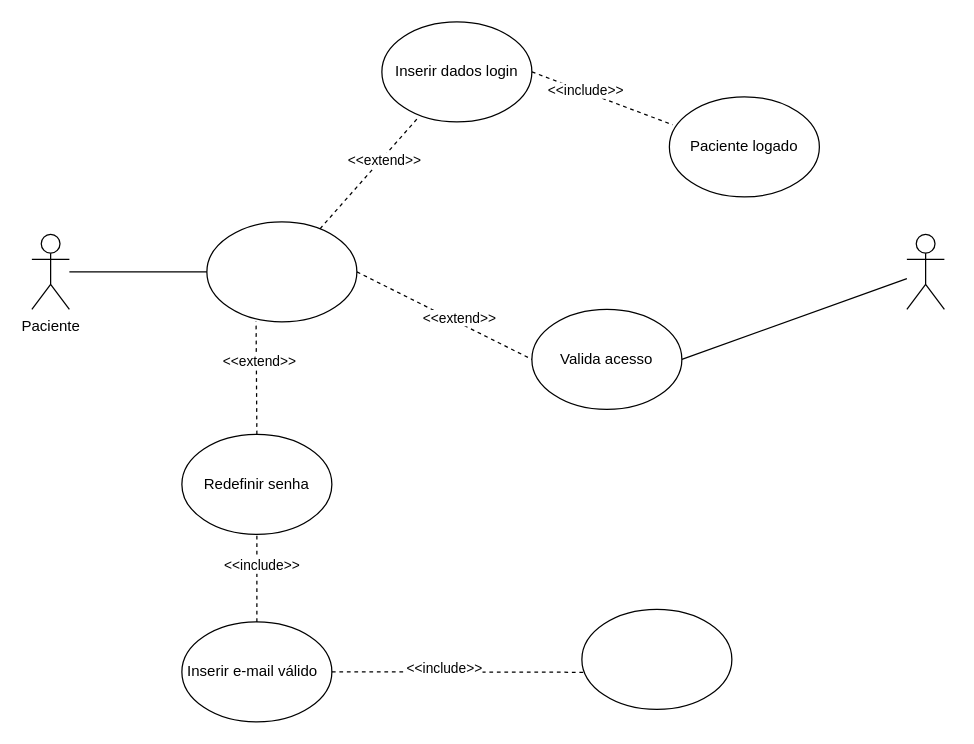
Image size: 974x744. Some labels were removed from this diagram. The shapes that lost their labels are listed below. From the top down, each one's box as (x1, y1, x2, y2) in pixels, then its label:
(206, 221, 357, 322): Tela Login
(906, 233, 944, 309): Sistema
(581, 608, 732, 709): Enviar e-mail redefinir senha
